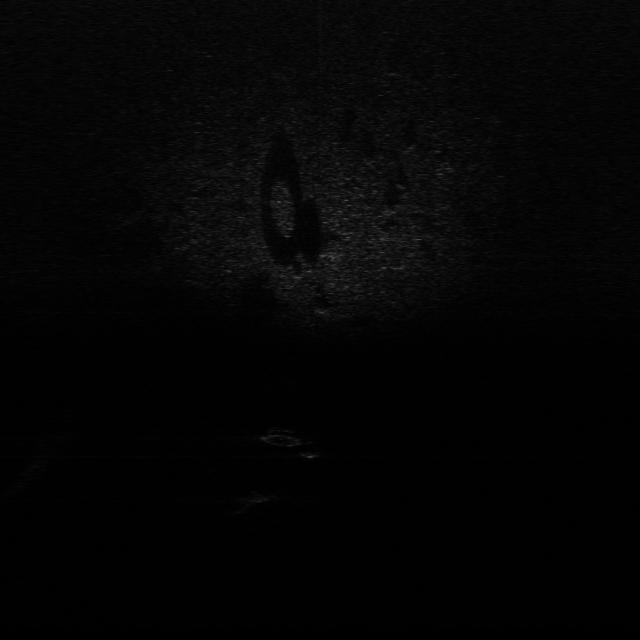ball: (300, 441, 330, 462)
square cage: (238, 489, 284, 509)
tyre: (264, 423, 304, 450)
